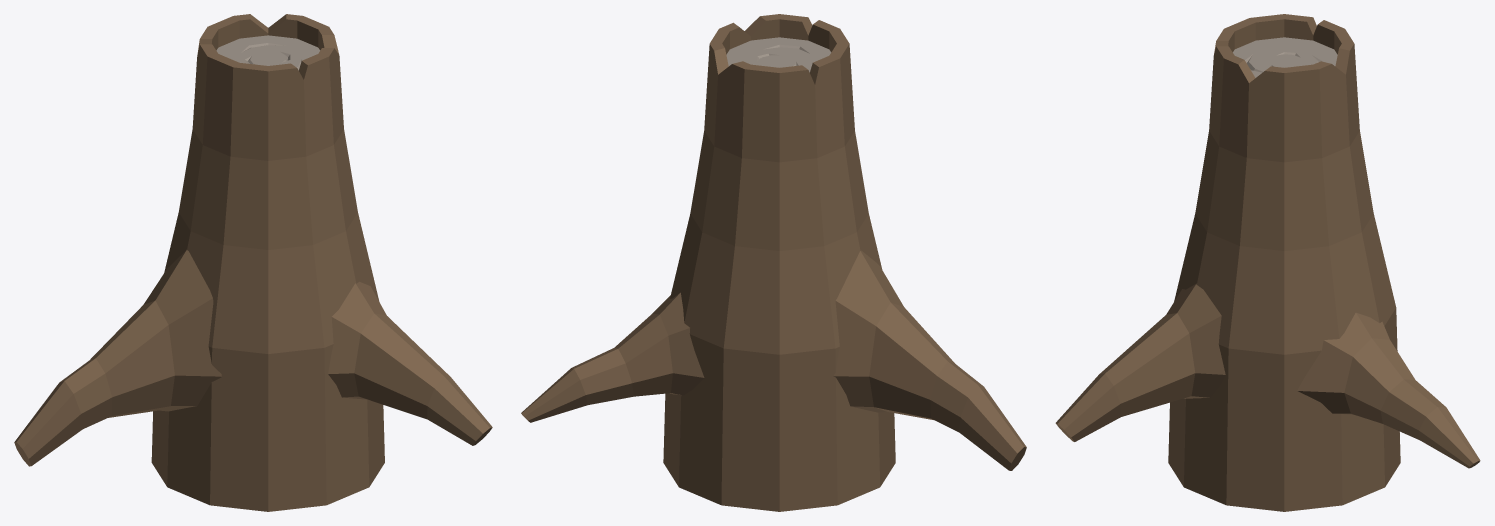
Rendered from NHP_Trunk_A1_03.fbx.
The picture shows the model from 3 angles, left to right: view 1: azimuth 30°, elevation 25°; view 2: azimuth 150°, elevation 25°; view 3: azimuth 270°, elevation 25°; orthographic projection.
Visible parts, largest first — view 1: NHP_Trunk_A1_03_LOD0; view 2: NHP_Trunk_A1_03_LOD0; view 3: NHP_Trunk_A1_03_LOD0.
Boxes of the visible parts, x1,y1,x2,y2 form: NHP_Trunk_A1_03_LOD0: (14, 14, 492, 511); NHP_Trunk_A1_03_LOD0: (521, 14, 1026, 511); NHP_Trunk_A1_03_LOD0: (1055, 14, 1480, 511).
Size of what is drawn, in the model's own units: 0.9242 by 0.9 by 0.8269.
